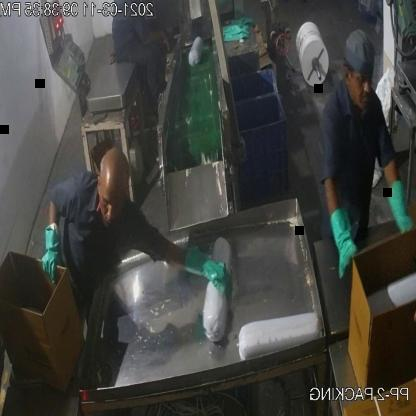glove: (187, 223, 239, 310), (330, 193, 357, 283), (383, 174, 412, 250)
